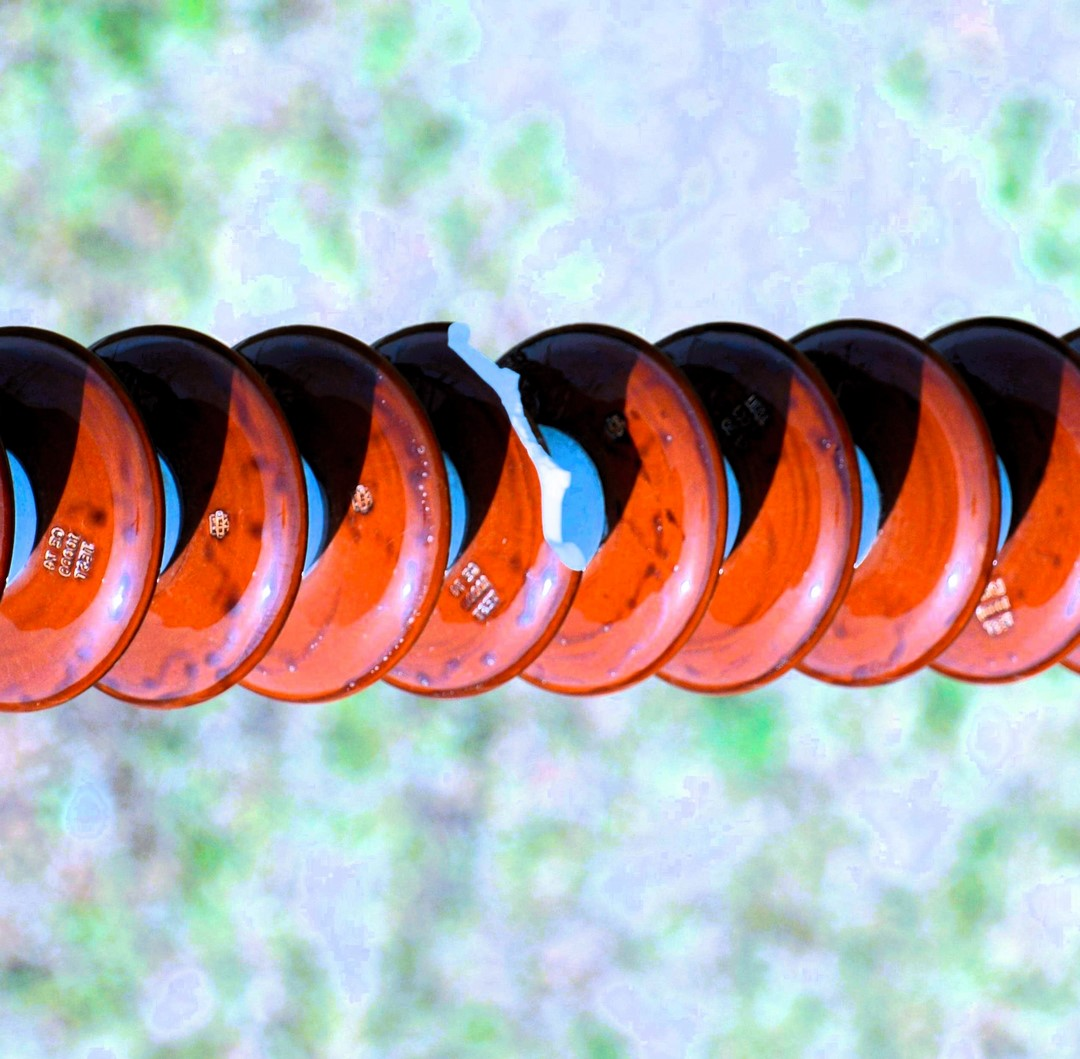insulator breakage: (361, 310, 593, 705)
